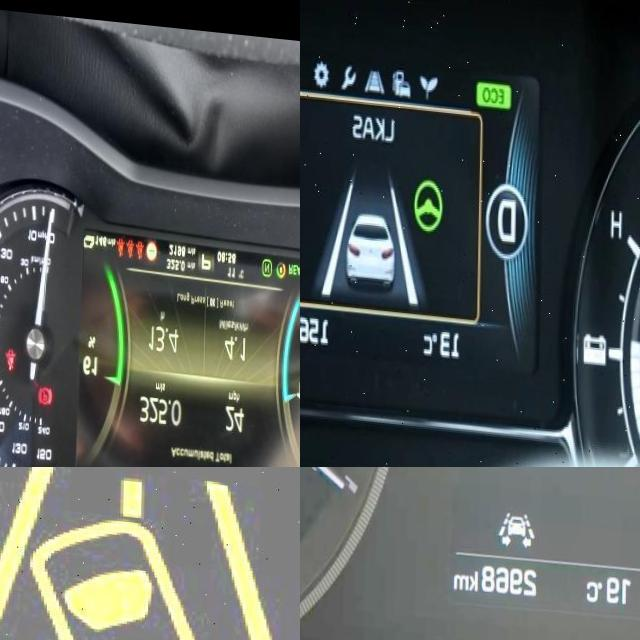Seat Belt: (5, 346, 20, 369), (116, 232, 126, 254), (127, 235, 135, 253), (138, 235, 145, 254)
